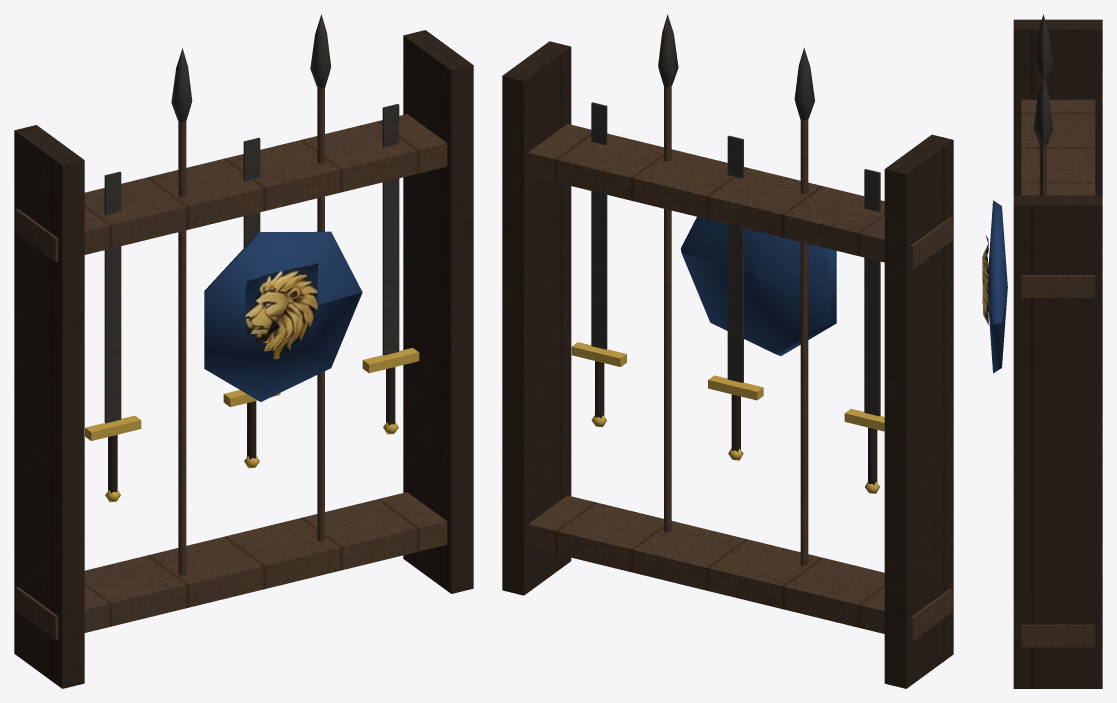
The model's file is weapon_rack_lod2.glb.
The picture shows the model from 3 angles, left to right: view 1: azimuth 30°, elevation 25°; view 2: azimuth 150°, elevation 25°; view 3: azimuth 270°, elevation 25°; orthographic projection. The views are drawn at different scales.
Visible parts, largest first — view 1: weapon_rack; view 2: weapon_rack; view 3: weapon_rack.
Part boxes in pixels (<box>): weapon_rack: <box>14,14,473,688</box>; weapon_rack: <box>502,14,953,688</box>; weapon_rack: <box>982,14,1102,688</box>.
Bounding box in the file's own units: 1.5 × 2.05 × 0.4066.
1 material, 1 textured.
